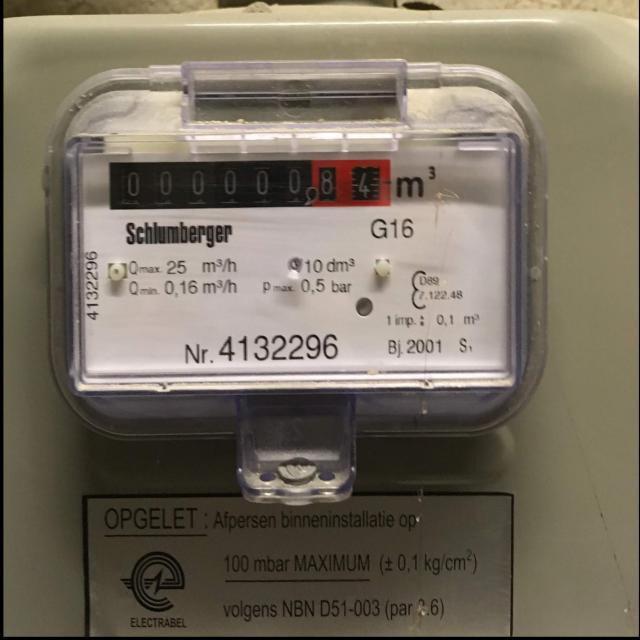gaz_meter: (70, 143, 516, 384)
indication: (108, 158, 393, 211)
